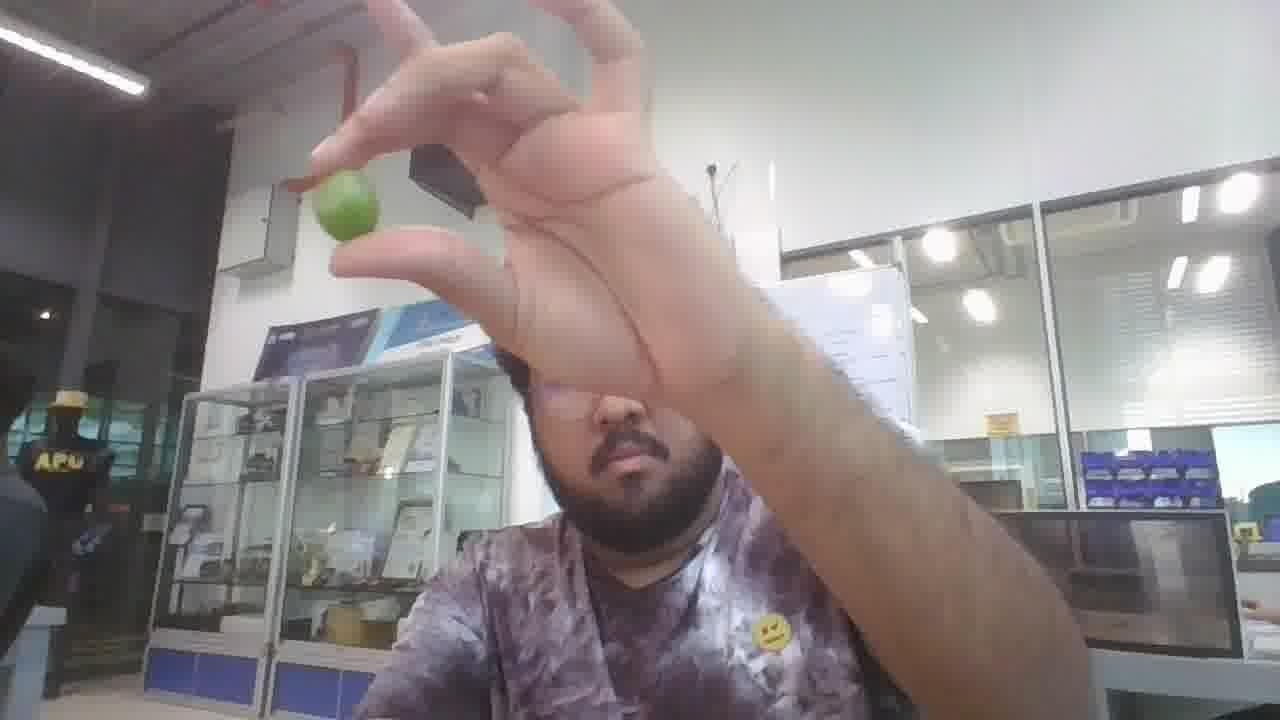green_cherry_tomato: (310, 170, 379, 242)
